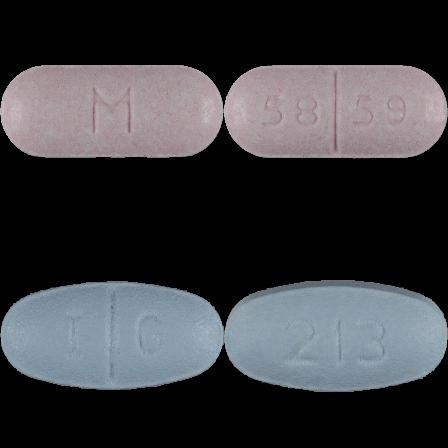68387-108: (0, 0, 224, 224)
